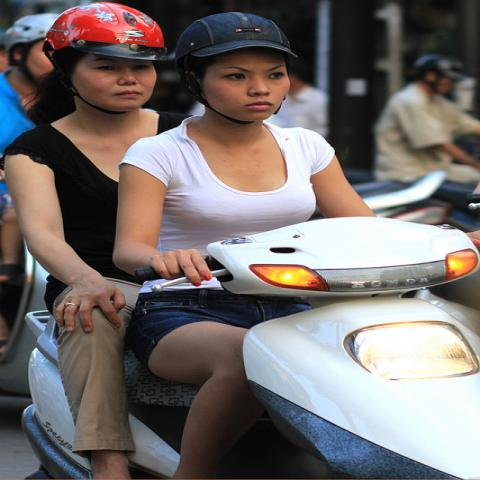motorcycle: (23, 214, 479, 474), (349, 167, 479, 236)
